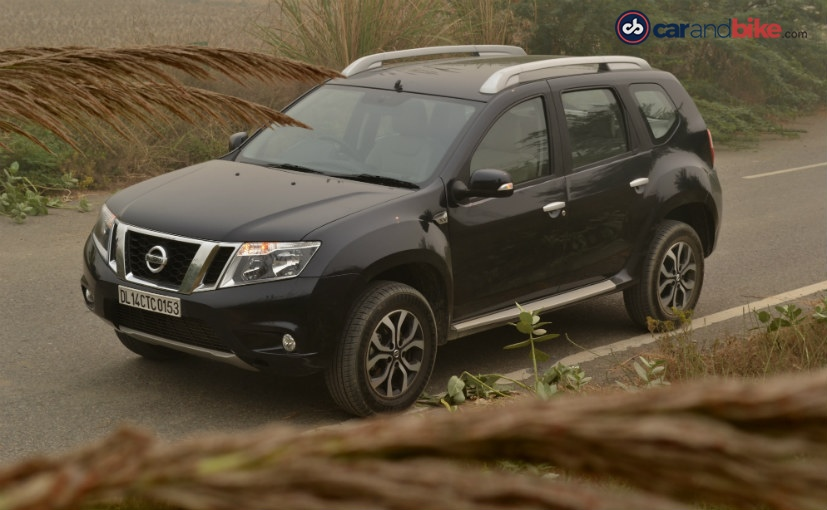number_plate: (111, 279, 189, 324)
